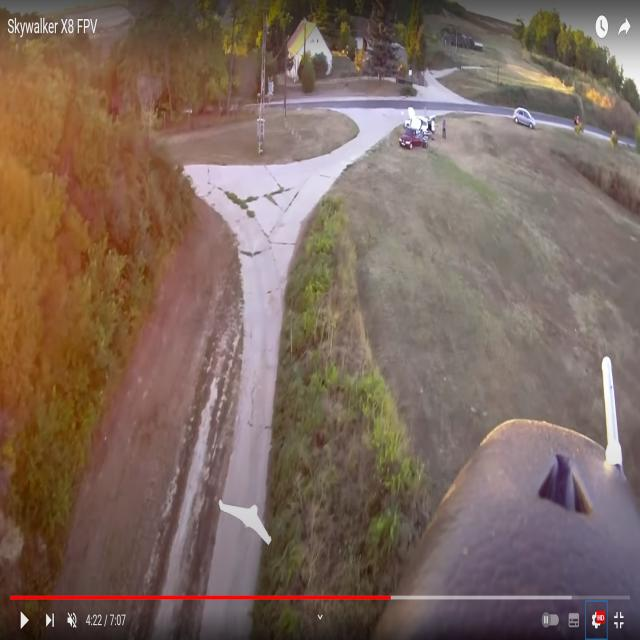iha: (218, 490, 272, 546)
